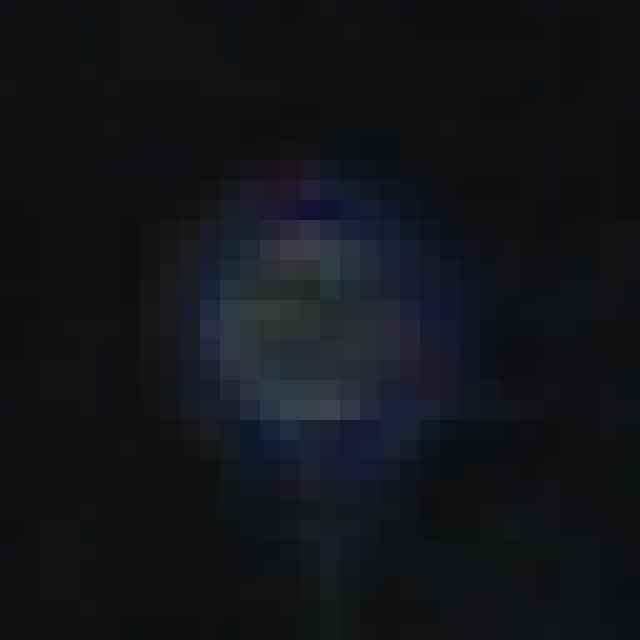SPEED LIMIT 120: (177, 177, 490, 484)
